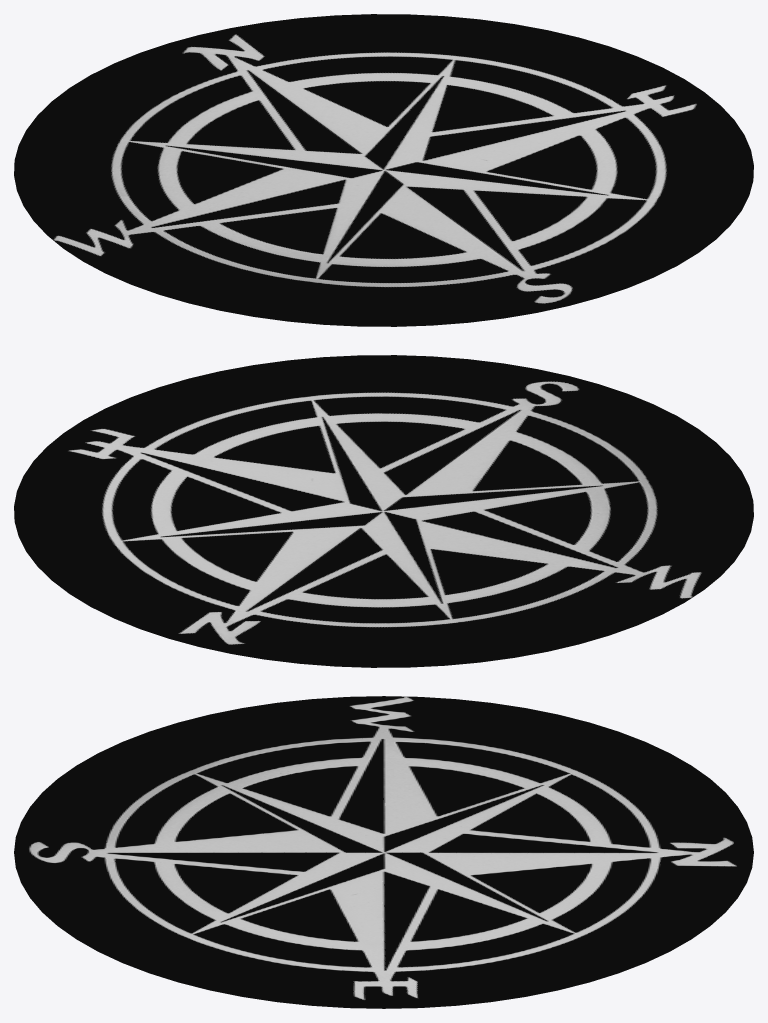
Rendered from compass_01.obj.
3 views of the same model, one above another, from view 1: azimuth 30°, elevation 25°; view 2: azimuth 150°, elevation 25°; view 3: azimuth 270°, elevation 25° (orthographic).
Parts seen in each view (by area): view 1: compass_01.obj; view 2: compass_01.obj; view 3: compass_01.obj.
Part boxes in pixels (x1,y1,x2,y2): compass_01.obj: (14, 14, 753, 326); compass_01.obj: (14, 355, 753, 667); compass_01.obj: (14, 696, 753, 1008).
Bounding box in the file's own units: 1 × 0 × 1.
